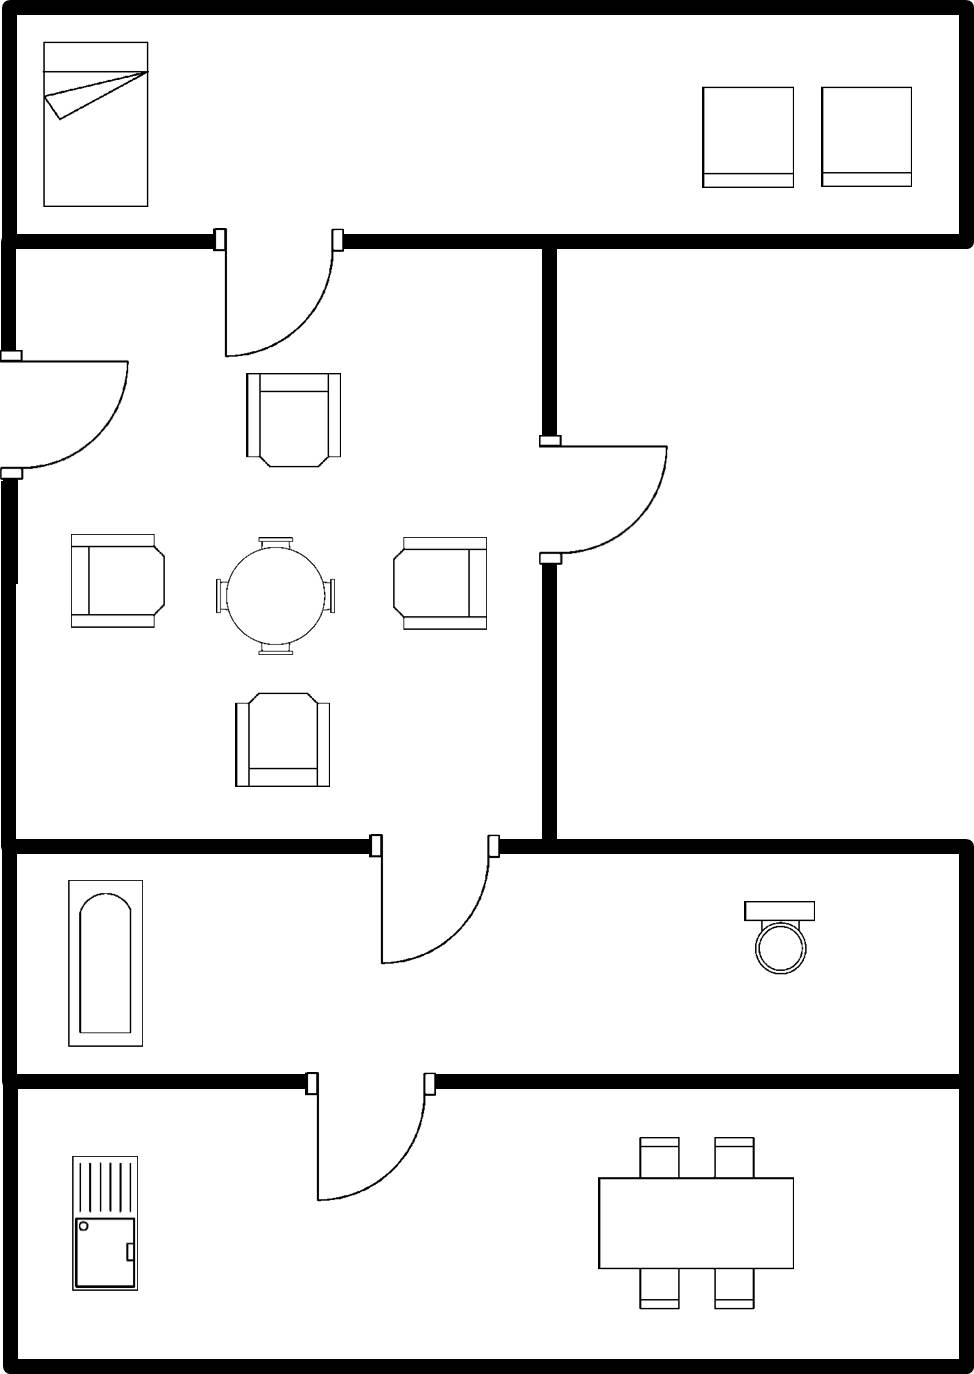armchair: (382, 526, 497, 636), (60, 527, 173, 639), (228, 684, 338, 796), (240, 366, 350, 478)
bed: (37, 32, 156, 218)
dining_table: (590, 1118, 804, 1319)
large_sink: (736, 891, 824, 983)
round_table: (206, 528, 342, 662)
sink: (62, 1144, 149, 1302)
small_sofa: (812, 76, 920, 199), (693, 80, 802, 199)
tub: (58, 872, 154, 1055)
